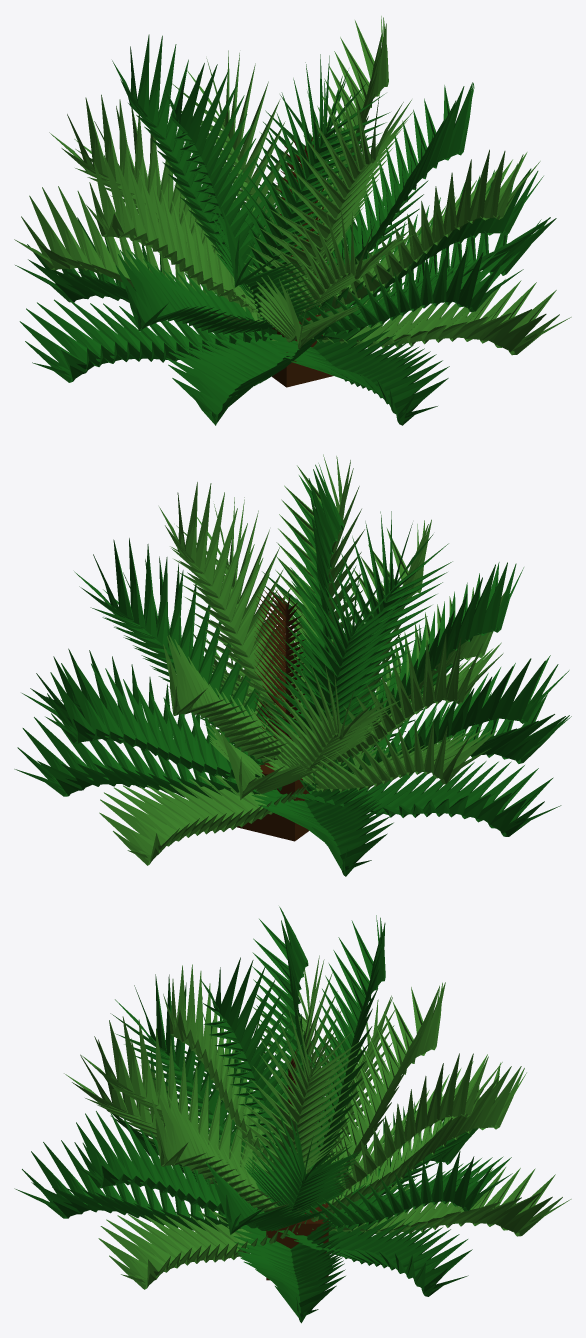
Rendered from palma segu.glb.
The picture shows the model from 3 angles, top to bottom: view 1: azimuth 30°, elevation 25°; view 2: azimuth 150°, elevation 25°; view 3: azimuth 270°, elevation 25°; orthographic projection. The views are drawn at different scales.
Visible parts, largest first — view 1: Cube.001, Cube.023, Cube.026, Cube.027, Cube.018, Cube.008, Cube.021, Cube.022, Cube.006, Cube.012, Cube.007, Cube.010 (+15 smaller); view 2: Cube.024, Cube.014, Cube.022, Cube.025, Cube.004, Cube.001, Cube.003, Cube.026, Cube.009, Cube.010, Cube.017, Cube.002 (+14 smaller); view 3: Cube.024, Cube.027, Cube.006, Cube.020, Cube.025, Cube.017, Cube.014, Cube.012, Cube.003, Cube.008, Cube.005, Cube.016 (+13 smaller).
Part boxes in pixels (x1=…): Cube.001: x1=19, y1=299, x2=274, y2=382; Cube.023: x1=244, y1=92, x2=413, y2=291; Cube.026: x1=165, y1=63, x2=276, y2=286; Cube.027: x1=215, y1=54, x2=390, y2=275; Cube.018: x1=86, y1=155, x2=255, y2=312; Cube.008: x1=251, y1=324, x2=449, y2=425; Cube.021: x1=317, y1=149, x2=540, y2=314; Cube.022: x1=310, y1=82, x2=474, y2=310; Cube.006: x1=272, y1=279, x2=571, y2=355; Cube.012: x1=257, y1=246, x2=523, y2=335; Cube.007: x1=165, y1=325, x2=330, y2=425; Cube.010: x1=115, y1=249, x2=273, y2=334; Cube.024: x1=159, y1=482, x2=299, y2=735; Cube.014: x1=45, y1=660, x2=267, y2=779; Cube.022: x1=74, y1=538, x2=278, y2=737; Cube.025: x1=259, y1=562, x2=406, y2=739; Cube.004: x1=99, y1=775, x2=309, y2=865; Cube.001: x1=276, y1=749, x2=561, y2=836; Cube.003: x1=14, y1=713, x2=282, y2=798; Cube.026: x1=276, y1=511, x2=452, y2=720; Cube.009: x1=265, y1=719, x2=496, y2=791; Cube.010: x1=299, y1=655, x2=569, y2=793; Cube.017: x1=250, y1=664, x2=401, y2=771; Cube.002: x1=251, y1=763, x2=393, y2=876; Cube.024: x1=232, y1=1006, x2=362, y2=1177; Cube.027: x1=200, y1=957, x2=339, y2=1157; Cube.006: x1=98, y1=1208, x2=307, y2=1289; Cube.020: x1=80, y1=1016, x2=268, y2=1197; Cube.025: x1=307, y1=915, x2=385, y2=1169; Cube.017: x1=306, y1=982, x2=445, y2=1177; Cube.014: x1=301, y1=1151, x2=512, y2=1228; Cube.012: x1=74, y1=1111, x2=267, y2=1214; Cube.003: x1=277, y1=1216, x2=472, y2=1296; Cube.008: x1=14, y1=1140, x2=266, y2=1231; Cube.005: x1=233, y1=1215, x2=345, y2=1323; Cube.016: x1=275, y1=1053, x2=502, y2=1206.
Size of the model in its own units: 18.06 by 10.95 by 17.9.
